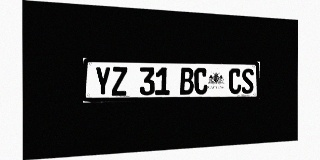1: (155, 67, 170, 95)
3: (140, 67, 155, 95)
B: (180, 68, 194, 95)
C: (194, 68, 207, 94), (229, 68, 241, 94)
S: (242, 68, 254, 94)
Y: (95, 66, 111, 96)
Z: (111, 67, 127, 96)
